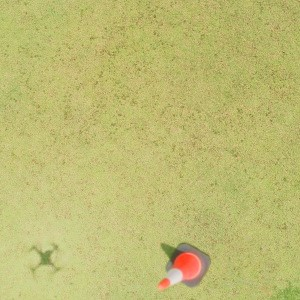traffic cone: (157, 243, 211, 290)
